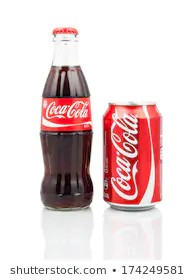coke-can: (100, 101, 165, 211)
coke-glass-bottle: (34, 25, 97, 211)
